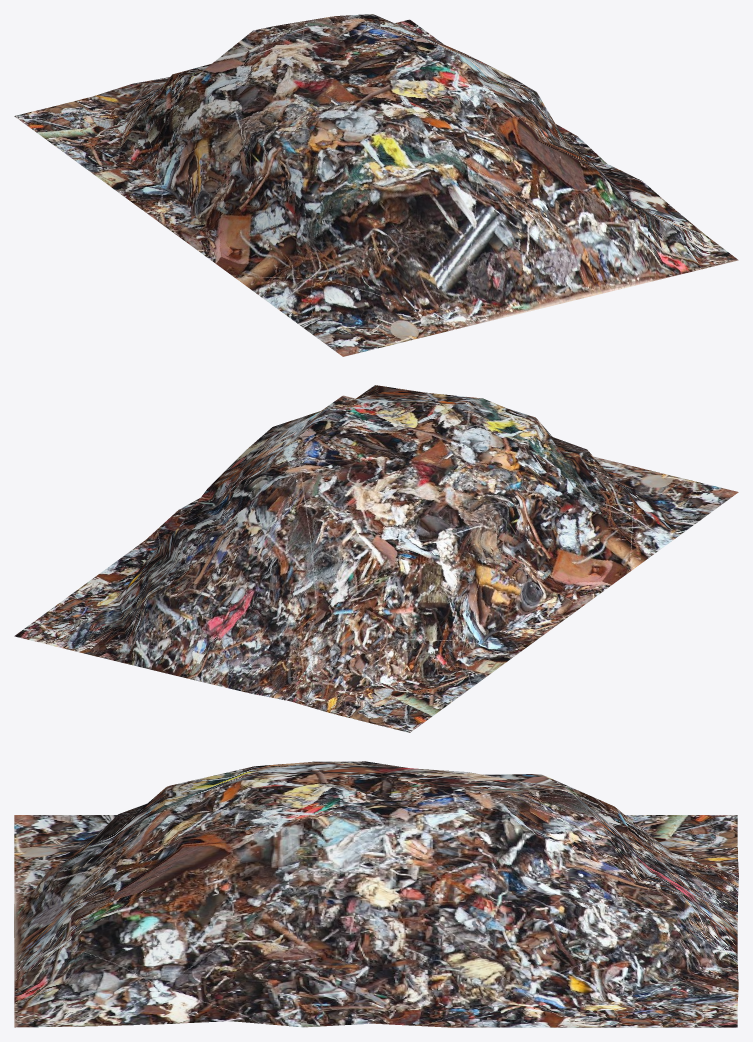
The model's file is m_TrashPileLarge02.fbx.
The picture shows the model from 3 angles, top to bottom: view 1: azimuth 30°, elevation 25°; view 2: azimuth 150°, elevation 25°; view 3: azimuth 270°, elevation 25°; orthographic projection. The views are drawn at different scales.
Parts seen in each view (by area): view 1: pPlane6; view 2: pPlane6; view 3: pPlane6.
Part boxes in pixels (bbox=[...]): pPlane6: bbox=[14, 14, 738, 356]; pPlane6: bbox=[14, 385, 738, 732]; pPlane6: bbox=[14, 761, 738, 1027].
Size of the model in its own units: 15.2 by 4.71 by 21.82.
Materials: 1 (1 with a texture image).
